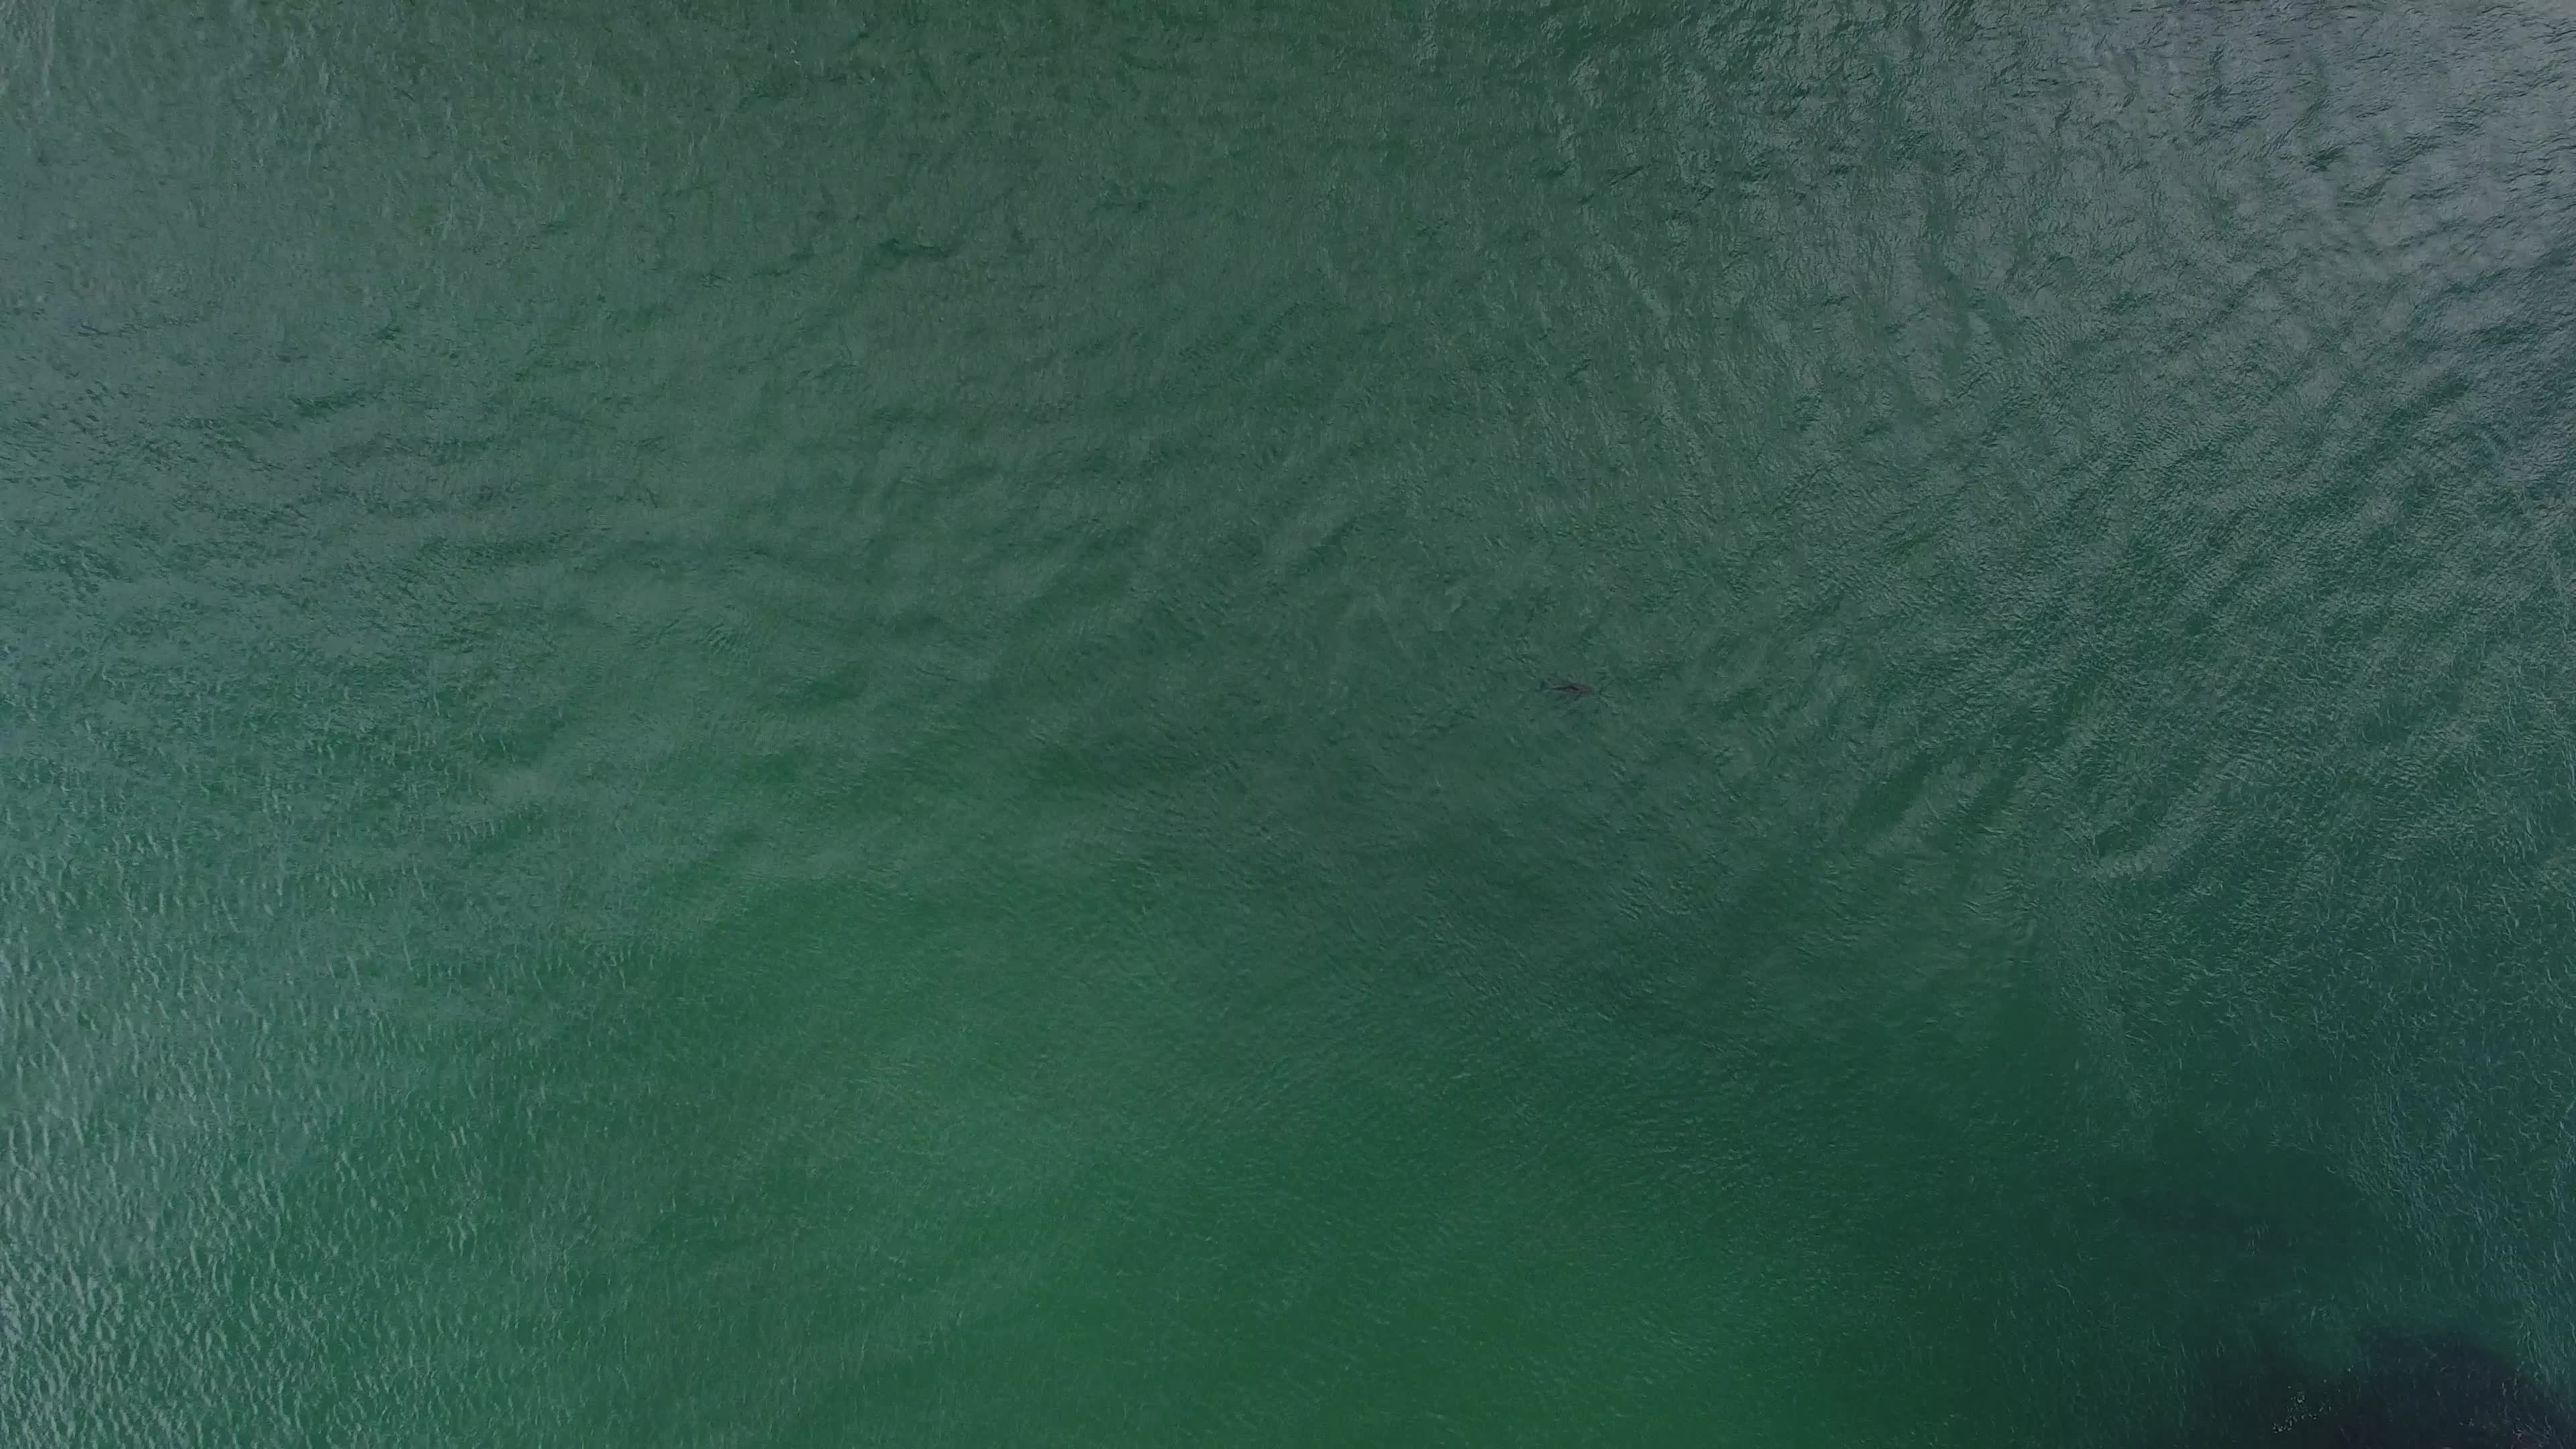dolphin: (1516, 658, 1615, 718)
